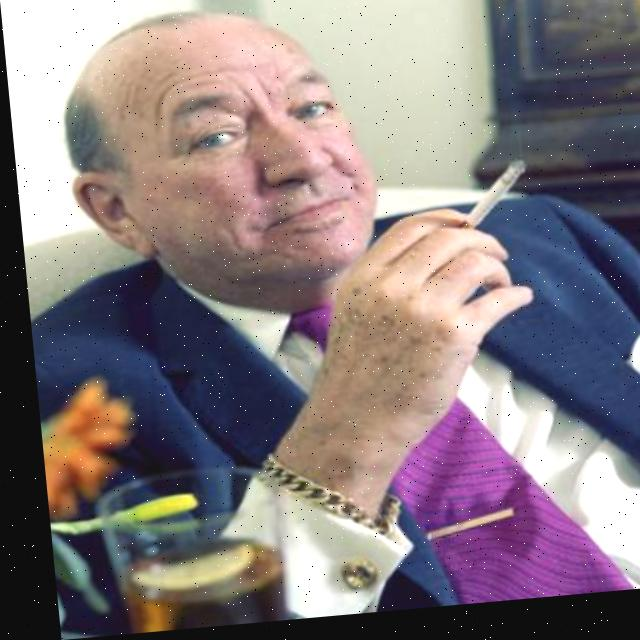cigarette: (450, 167, 527, 238)
